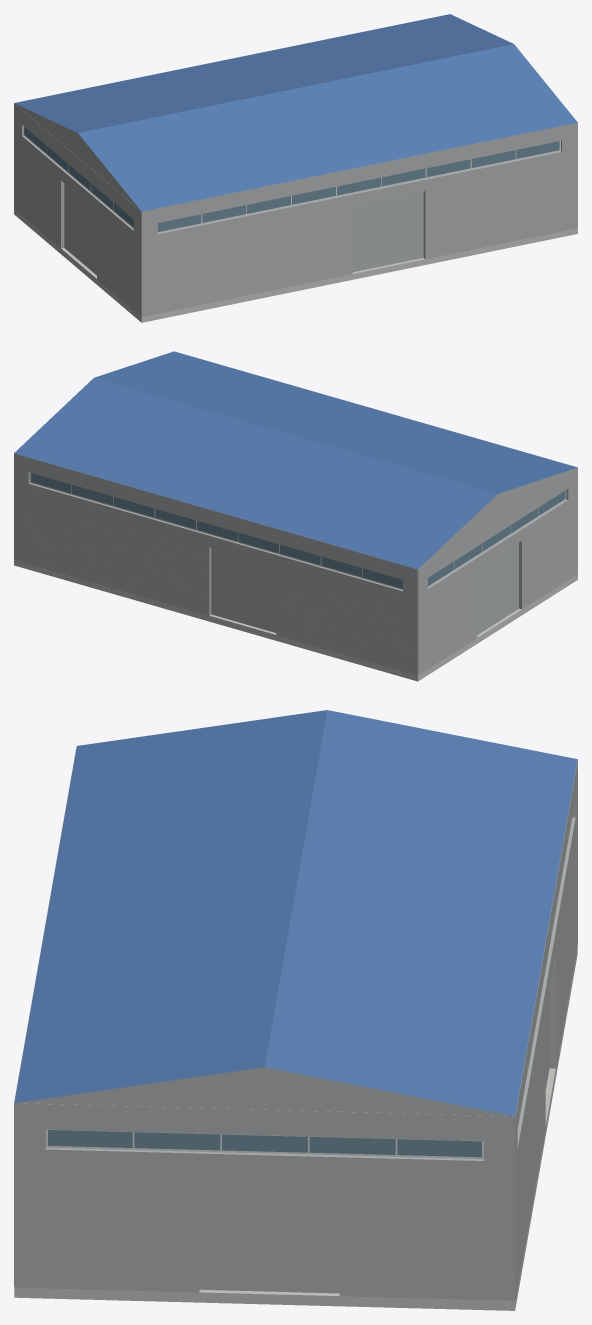
3 renders of one model, top to bottom at view 1: azimuth 30°, elevation 25°; view 2: azimuth 150°, elevation 25°; view 3: azimuth 270°, elevation 25°, orthographic. The views are drawn at different scales.
Visible parts, largest first — view 1: se-shed-b__roofmetal, se-shed-b__siding, se-shed-b__shutter, se-shed-b__glass, se-shed-b__concrete, se-shed-b__lightframe; view 2: se-shed-b__roofmetal, se-shed-b__siding, se-shed-b__shutter, se-shed-b__glass, se-shed-b__concrete, se-shed-b__lightframe; view 3: se-shed-b__roofmetal, se-shed-b__siding, se-shed-b__shutter, se-shed-b__glass, se-shed-b__concrete, se-shed-b__lightframe.
Part boxes in pixels (x1=…): se-shed-b__roofmetal: x1=14, y1=14, x2=577, y2=211; se-shed-b__siding: x1=14, y1=15, x2=577, y2=316; se-shed-b__shutter: x1=64, y1=183, x2=423, y2=275; se-shed-b__glass: x1=24, y1=127, x2=559, y2=231; se-shed-b__concrete: x1=14, y1=209, x2=577, y2=322; se-shed-b__lightframe: x1=24, y1=126, x2=560, y2=233; se-shed-b__roofmetal: x1=14, y1=351, x2=577, y2=569; se-shed-b__siding: x1=14, y1=453, x2=577, y2=675; se-shed-b__shutter: x1=211, y1=543, x2=518, y2=634; se-shed-b__glass: x1=31, y1=473, x2=565, y2=588; se-shed-b__concrete: x1=14, y1=559, x2=577, y2=681; se-shed-b__lightframe: x1=30, y1=472, x2=566, y2=589; se-shed-b__roofmetal: x1=14, y1=710, x2=577, y2=1116; se-shed-b__siding: x1=14, y1=746, x2=577, y2=1300; se-shed-b__shutter: x1=199, y1=987, x2=549, y2=1293; se-shed-b__glass: x1=48, y1=1130, x2=481, y2=1157; se-shed-b__concrete: x1=14, y1=947, x2=577, y2=1310; se-shed-b__lightframe: x1=45, y1=1129, x2=483, y2=1159.
Size of the model in its own units: 28.02 by 8.36 by 18.02.
Materials: 7 (1 with a texture image).
